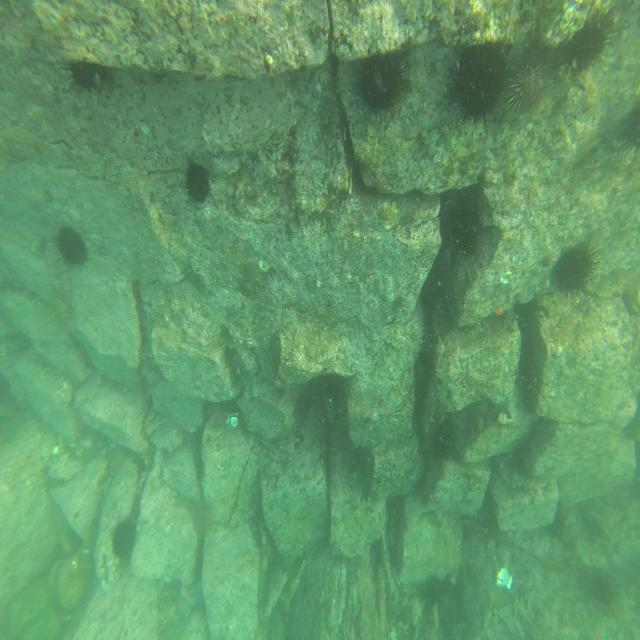echinus: (445, 37, 511, 126), (355, 44, 411, 124), (563, 9, 619, 75), (550, 240, 596, 305), (505, 53, 549, 117), (53, 226, 90, 271), (183, 156, 214, 205), (68, 53, 104, 94), (111, 513, 138, 562)
scallop: (497, 564, 512, 594)
